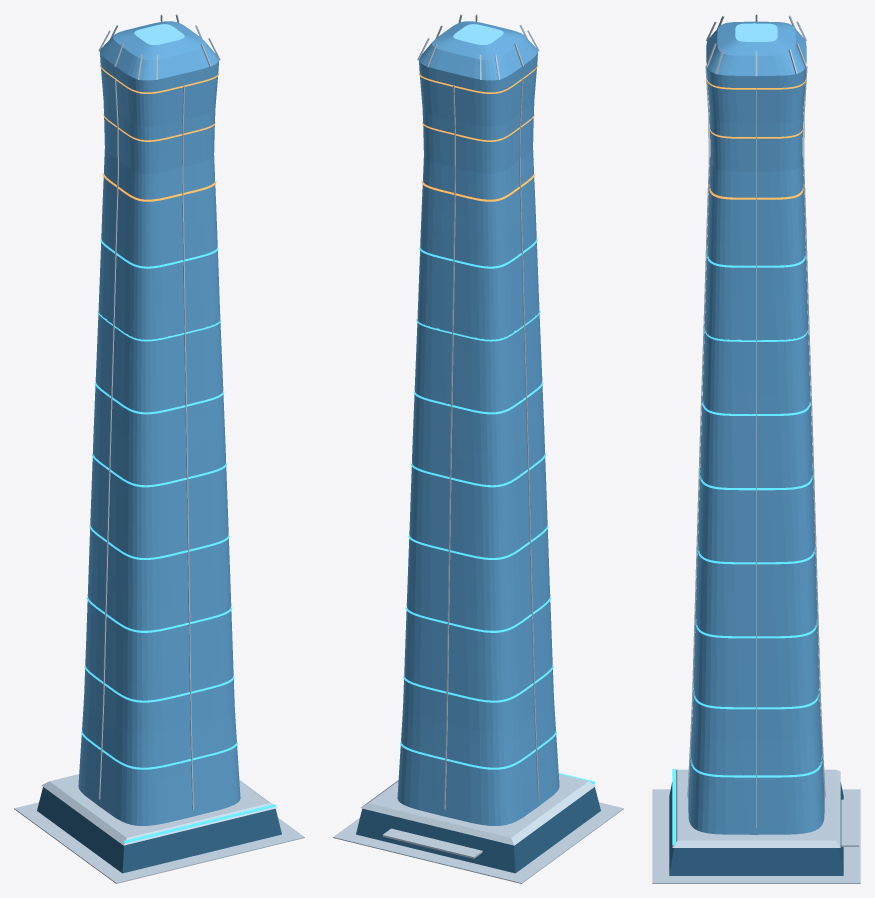
Rendered from citic-tower.glb.
3 renders of one model, left to right at view 1: azimuth 30°, elevation 25°; view 2: azimuth 150°, elevation 25°; view 3: azimuth 270°, elevation 25°, orthographic.
Parts seen in each view (by area): view 1: citic-tower-glassBlue, citic-tower-frame, citic-tower-glassDeep, citic-tower-lightCyan, citic-tower-lightWarm, citic-tower-crown; view 2: citic-tower-glassBlue, citic-tower-frame, citic-tower-glassDeep, citic-tower-lightCyan, citic-tower-lightWarm, citic-tower-crown; view 3: citic-tower-glassBlue, citic-tower-frame, citic-tower-glassDeep, citic-tower-lightCyan, citic-tower-crown, citic-tower-lightWarm.
Boxes of the visible parts, bbox=[...] form: citic-tower-glassBlue: bbox=[78, 21, 240, 825]; citic-tower-frame: bbox=[14, 14, 304, 883]; citic-tower-glassDeep: bbox=[37, 787, 281, 873]; citic-tower-lightCyan: bbox=[81, 239, 276, 843]; citic-tower-lightWarm: bbox=[99, 63, 219, 201]; citic-tower-crown: bbox=[134, 24, 184, 45]; citic-tower-glassBlue: bbox=[397, 21, 559, 825]; citic-tower-frame: bbox=[333, 14, 623, 883]; citic-tower-glassDeep: bbox=[356, 787, 600, 873]; citic-tower-lightCyan: bbox=[400, 238, 595, 784]; citic-tower-lightWarm: bbox=[418, 65, 538, 201]; citic-tower-crown: bbox=[453, 24, 503, 45]; citic-tower-glassBlue: bbox=[688, 21, 824, 834]; citic-tower-frame: bbox=[652, 14, 860, 883]; citic-tower-glassDeep: bbox=[669, 782, 843, 875]; citic-tower-lightCyan: bbox=[672, 237, 822, 845]; citic-tower-crown: bbox=[735, 23, 777, 41]; citic-tower-lightWarm: bbox=[706, 77, 806, 199].
Bounding box in the file's own units: 132 × 528 × 124.
